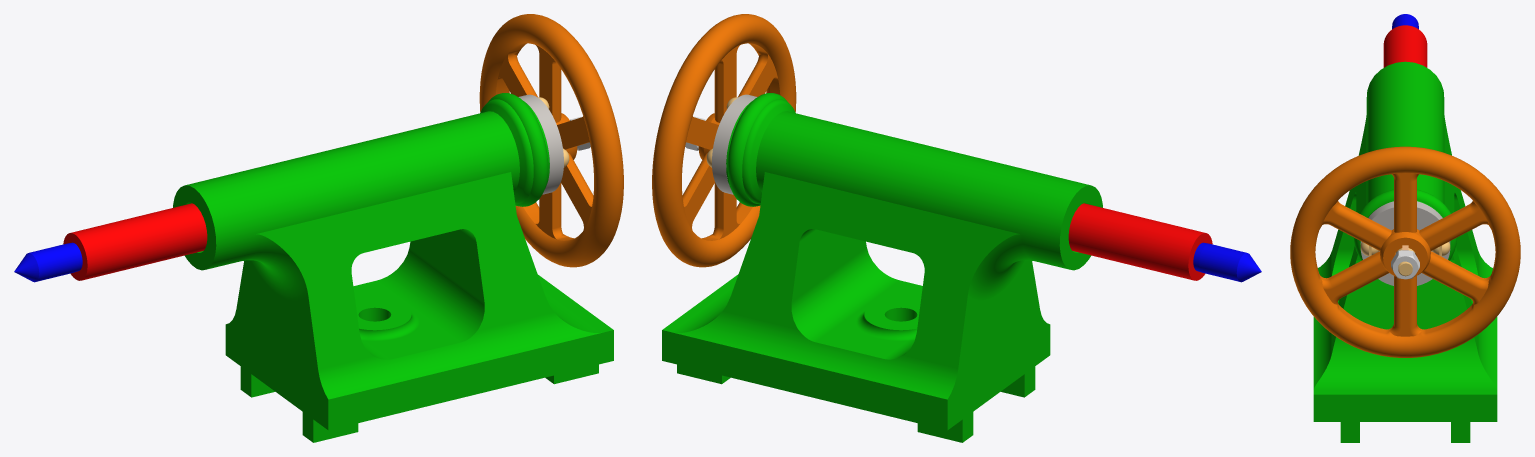
Rendered from Assembly_Lathe_tail_stock.glb.
The picture shows the model from 3 angles, left to right: view 1: azimuth 30°, elevation 25°; view 2: azimuth 150°, elevation 25°; view 3: azimuth 270°, elevation 25°; orthographic projection. The views are drawn at different scales.
Visible parts, largest first — view 1: Part5-1, Part1-1, Barrel-1, Part2-2, Spindle bearing-1; view 2: Part5-1, Part1-1, Barrel-1, Part2-2, Spindle bearing-1; view 3: Part5-1, Part1-1, Barrel-1, Spindle bearing-1, Part3-1, Assembly Lathe tail stock, Part2-2.
Boxes of the visible parts, bbox=[...] form: Part5-1: bbox=[173, 93, 613, 442]; Part1-1: bbox=[479, 14, 623, 267]; Barrel-1: bbox=[63, 203, 207, 280]; Part2-2: bbox=[14, 242, 82, 282]; Spindle bearing-1: bbox=[518, 94, 563, 194]; Part5-1: bbox=[662, 93, 1102, 442]; Part1-1: bbox=[652, 14, 796, 267]; Barrel-1: bbox=[1068, 203, 1212, 280]; Part2-2: bbox=[1193, 242, 1261, 282]; Spindle bearing-1: bbox=[712, 94, 757, 194]; Part5-1: bbox=[1313, 61, 1497, 442]; Part1-1: bbox=[1290, 146, 1520, 357]; Barrel-1: bbox=[1383, 25, 1427, 67]; Spindle bearing-1: bbox=[1360, 201, 1450, 285]; Part3-1: bbox=[1391, 250, 1419, 279]; Assembly Lathe tail stock: bbox=[1360, 242, 1450, 256]; Part2-2: bbox=[1392, 14, 1418, 29].
Bounding box in the file's own units: 0.49 × 0.264 × 0.19.
